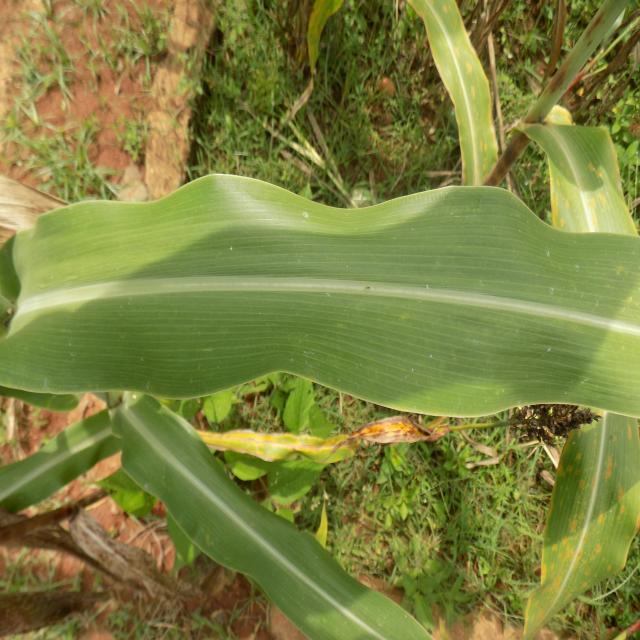millet_healthy: (0, 174, 640, 414), (123, 399, 432, 640), (0, 409, 123, 505)
millet_rust: (518, 121, 640, 639), (411, 2, 501, 184)
